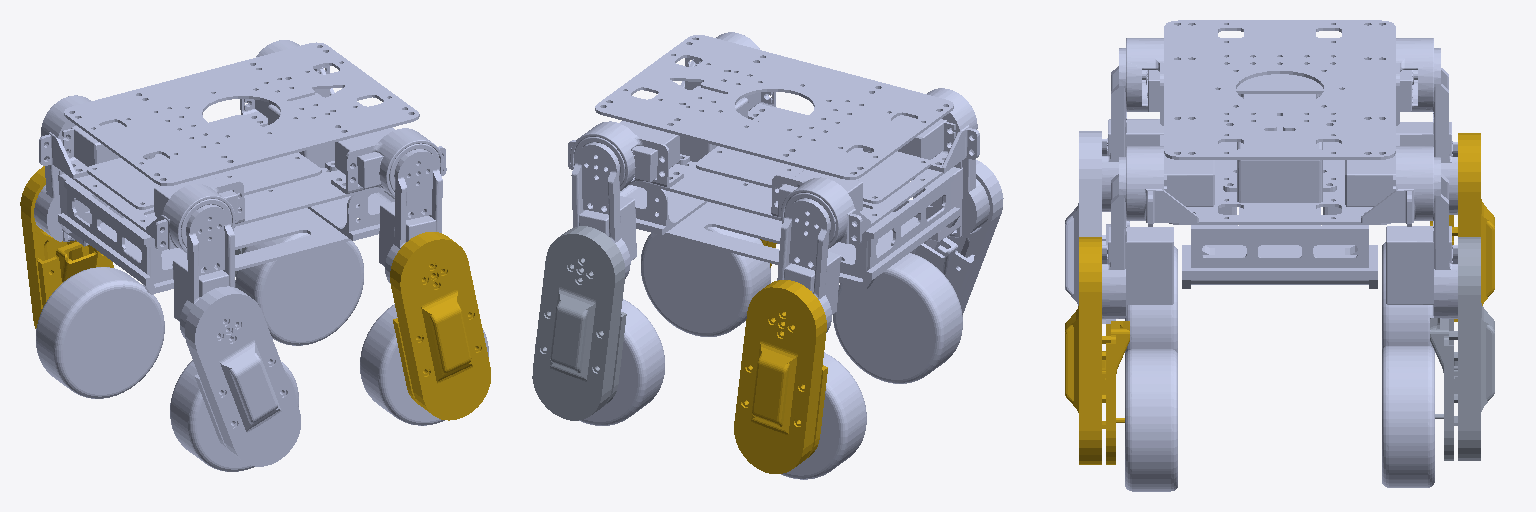
URDF robot description (qwe.SLDASM):
<?xml version="1.0" encoding="utf-8"?>
<!-- This URDF was automatically created by SolidWorks to URDF Exporter! Originally created by Stephen Brawner (brawner@gmail.com) 
     Commit Version: 1.6.0-4-g7f85cfe  Build Version: 1.6.7995.38578
     For more information, please see http://wiki.ros.org/sw_urdf_exporter -->
<robot
  name="qwe.SLDASM">
  <link
    name="base_link">
    <inertial>
      <origin
        xyz="0.00555840377495149 -2.19858108875884E-05 -0.0338534350070039"
        rpy="0 0 0" />
      <mass
        value="0.419586541227121" />
      <inertia
        ixx="0.000312095321114988"
        ixy="2.50695119161725E-08"
        ixz="-6.90599475069062E-06"
        iyy="0.000387742385307298"
        iyz="4.11379473740516E-08"
        izz="0.000639007842405834" />
    </inertial>
    <visual>
      <origin
        xyz="0 0 0"
        rpy="0 0 0" />
      <geometry>
        <mesh
          filename="package://qwe.SLDASM/meshes/base_link.STL" />
      </geometry>
      <material
        name="">
        <color
          rgba="0.792156862745098 0.819607843137255 0.933333333333333 1" />
      </material>
    </visual>
    <collision>
      <origin
        xyz="0 0 0"
        rpy="0 0 0" />
      <geometry>
        <mesh
          filename="package://qwe.SLDASM/meshes/base_link.STL" />
      </geometry>
    </collision>
  </link>
  <link
    name="big_qian_zuo">
    <inertial>
      <origin
        xyz="0.00598678395976224 1.98653760603157E-06 -0.0461649985361685"
        rpy="0 0 0" />
      <mass
        value="0.0494865350740823" />
      <inertia
        ixx="2.43542348789758E-05"
        ixy="7.75557557316936E-10"
        ixz="-2.53299401409177E-06"
        iyy="2.49490121099917E-05"
        iyz="3.23687605066671E-09"
        izz="8.45453181596326E-06" />
    </inertial>
    <visual>
      <origin
        xyz="0 0 0"
        rpy="0 0 0" />
      <geometry>
        <mesh
          filename="package://qwe.SLDASM/meshes/big_qian_zuo.STL" />
      </geometry>
      <material
        name="">
        <color
          rgba="0.792156862745098 0.819607843137255 0.933333333333333 1" />
      </material>
    </visual>
    <collision>
      <origin
        xyz="0 0 0"
        rpy="0 0 0" />
      <geometry>
        <mesh
          filename="package://qwe.SLDASM/meshes/big_qian_zuo.STL" />
      </geometry>
    </collision>
  </link>
  <joint
    name="big_qian_zuo_joint"
    type="revolute">
    <origin
      xyz="0.0762094291442094 0.0903 -0.0234011305178569"
      rpy="-0.0308855290297457 -0.00706008448016331 -1.57057820480458" />
    <parent
      link="base_link" />
    <child
      link="big_qian_zuo" />
    <axis
      xyz="0.999999932595868 -0.000367162441960122 0" />
    <limit
      lower="-3"
      upper="3"
      effort="1"
      velocity="1" />
  </joint>
  <link
    name="small_qian_zuo">
    <inertial>
      <origin
        xyz="0.00767726535709001 2.66992835226687E-06 -0.0417242038743062"
        rpy="0 0 0" />
      <mass
        value="0.0485888194618554" />
      <inertia
        ixx="5.53620086864661E-05"
        ixy="-1.0875528646771E-12"
        ixz="-9.32800169431362E-07"
        iyy="4.64562167462947E-05"
        iyz="-3.6740556524865E-12"
        izz="1.03749534177239E-05" />
    </inertial>
    <visual>
      <origin
        xyz="0 0 0"
        rpy="0 0 0" />
      <geometry>
        <mesh
          filename="package://qwe.SLDASM/meshes/small_qian_zuo.STL" />
      </geometry>
      <material
        name="">
        <color
          rgba="0.666666666666667 0.698039215686274 0.768627450980392 1" />
      </material>
    </visual>
    <collision>
      <origin
        xyz="0 0 0"
        rpy="0 0 0" />
      <geometry>
        <mesh
          filename="package://qwe.SLDASM/meshes/small_qian_zuo.STL" />
      </geometry>
    </collision>
  </link>
  <joint
    name="small_qian_zuo_joint"
    type="revolute">
    <origin
      xyz="-0.0232348253078274 0 -0.0614783303018983"
      rpy="0.150944016190387 0.00706345307050266 0" />
    <parent
      link="big_qian_zuo" />
    <child
      link="small_qian_zuo" />
    <axis
      xyz="1 0 0" />
    <limit
      lower="-3"
      upper="3"
      effort="1"
      velocity="1" />
  </joint>
  <link
    name="last_qian_zuo">
    <inertial>
      <origin
        xyz="-0.0149999999999998 -5.82867087928207E-16 1.38777878078145E-16"
        rpy="0 0 0" />
      <mass
        value="0.149109068746913" />
      <inertia
        ixx="0.000118053785956217"
        ixy="1.22252890212675E-18"
        ixz="-9.42524443498174E-19"
        iyy="7.00002951751582E-05"
        iyz="5.05043394797974E-21"
        izz="7.00002951751582E-05" />
    </inertial>
    <visual>
      <origin
        xyz="0 0 0"
        rpy="0 0 0" />
      <geometry>
        <mesh
          filename="package://qwe.SLDASM/meshes/last_qian_zuo.STL" />
      </geometry>
      <material
        name="">
        <color
          rgba="0.792156862745098 0.819607843137255 0.933333333333333 1" />
      </material>
    </visual>
    <collision>
      <origin
        xyz="0 0 0"
        rpy="0 0 0" />
      <geometry>
        <mesh
          filename="package://qwe.SLDASM/meshes/last_qian_zuo.STL" />
      </geometry>
    </collision>
  </link>
  <joint
    name="last_qian_zuo_last"
    type="continuous">
    <origin
      xyz="0.0559999999999992 0 -0.0800000000000008"
      rpy="1.42873540434818 0 0" />
    <parent
      link="small_qian_zuo" />
    <child
      link="last_qian_zuo" />
    <axis
      xyz="-1 0 0" />
    <limit
      lower="-3"
      upper="3"
      effort="1"
      velocity="1" />
  </joint>
  <link
    name="big_qian_you">
    <inertial>
      <origin
        xyz="-0.00631271616099918 -1.9860585745296E-06 -0.0461215595607491"
        rpy="0 0 0" />
      <mass
        value="0.0494865356273923" />
      <inertia
        ixx="2.43892239576833E-05"
        ixy="7.52722720596035E-10"
        ixz="2.42043823170891E-06"
        iyy="2.49490122157885E-05"
        iyz="-3.24150248933336E-09"
        izz="8.41954297295392E-06" />
    </inertial>
    <visual>
      <origin
        xyz="0 0 0"
        rpy="0 0 0" />
      <geometry>
        <mesh
          filename="package://qwe.SLDASM/meshes/big_qian_you.STL" />
      </geometry>
      <material
        name="">
        <color
          rgba="0.792156862745098 0.819607843137255 0.933333333333333 1" />
      </material>
    </visual>
    <collision>
      <origin
        xyz="0 0 0"
        rpy="0 0 0" />
      <geometry>
        <mesh
          filename="package://qwe.SLDASM/meshes/big_qian_you.STL" />
      </geometry>
    </collision>
  </link>
  <joint
    name="big_qian_you_joint"
    type="revolute">
    <origin
      xyz="0.0762094291442093 -0.0902999999999995 -0.023401130517856"
      rpy="-0.0225559175818486 0 -1.57079632679133" />
    <parent
      link="base_link" />
    <child
      link="big_qian_you" />
    <axis
      xyz="-1 0 0" />
    <limit
      lower="-3"
      upper="3"
      effort="1"
      velocity="1" />
  </joint>
  <link
    name="small_qian_you">
    <inertial>
      <origin
        xyz="-0.00767726462148824 -2.65533010727903E-06 -0.0417238698915572"
        rpy="0 0 0" />
      <mass
        value="0.0485888184351272" />
      <inertia
        ixx="5.53620073110566E-05"
        ixy="-1.11009066465463E-12"
        ixz="9.32799740938875E-07"
        iyy="4.6456215295849E-05"
        iyz="2.31993670034056E-12"
        izz="1.0374953348037E-05" />
    </inertial>
    <visual>
      <origin
        xyz="0 0 0"
        rpy="0 0 0" />
      <geometry>
        <mesh
          filename="package://qwe.SLDASM/meshes/small_qian_you.STL" />
      </geometry>
      <material
        name="">
        <color
          rgba="0.831372549019608 0.670588235294118 0.129411764705882 1" />
      </material>
    </visual>
    <collision>
      <origin
        xyz="0 0 0"
        rpy="0 0 0" />
      <geometry>
        <mesh
          filename="package://qwe.SLDASM/meshes/small_qian_you.STL" />
      </geometry>
    </collision>
  </link>
  <joint
    name="small_qian_you_joint"
    type="revolute">
    <origin
      xyz="0.0227999999999998 0 -0.0616409133919568"
      rpy="0.227738111732279 0 0" />
    <parent
      link="big_qian_you" />
    <child
      link="small_qian_you" />
    <axis
      xyz="-1 0 0" />
    <limit
      lower="-3"
      upper="3"
      effort="1"
      velocity="1" />
  </joint>
  <link
    name="last_qian_you">
    <inertial>
      <origin
        xyz="-0.015 -2.22044604925031E-16 4.30211422042248E-16"
        rpy="0 0 0" />
      <mass
        value="0.149109068746913" />
      <inertia
        ixx="0.000118053785956217"
        ixy="7.49965213635504E-19"
        ixz="-1.36735576476358E-18"
        iyy="7.00002951751581E-05"
        iyz="3.81164826262279E-21"
        izz="7.00002951751581E-05" />
    </inertial>
    <visual>
      <origin
        xyz="0 0 0"
        rpy="0 0 0" />
      <geometry>
        <mesh
          filename="package://qwe.SLDASM/meshes/last_qian_you.STL" />
      </geometry>
      <material
        name="">
        <color
          rgba="0.792156862745098 0.819607843137255 0.933333333333333 1" />
      </material>
    </visual>
    <collision>
      <origin
        xyz="0 0 0"
        rpy="0 0 0" />
      <geometry>
        <mesh
          filename="package://qwe.SLDASM/meshes/last_qian_you.STL" />
      </geometry>
    </collision>
  </link>
  <joint
    name="last_qian_you_joint"
    type="continuous">
    <origin
      xyz="-0.0559999999999992 0 -0.0800000000000008"
      rpy="1.79798018624836 0 3.14159265358977" />
    <parent
      link="small_qian_you" />
    <child
      link="last_qian_you" />
    <axis
      xyz="-1 0 0" />
    <limit
      lower="-3"
      upper="3"
      effort="1"
      velocity="1" />
  </joint>
  <link
    name="big_hou_you">
    <inertial>
      <origin
        xyz="-0.00631271631098991 -1.98797039906162E-06 -0.0461215608870768"
        rpy="0 0 0" />
      <mass
        value="0.0494865335752321" />
      <inertia
        ixx="2.43892234060449E-05"
        ixy="7.52531112419532E-10"
        ixz="2.42043806203214E-06"
        iyy="2.49490119102213E-05"
        iyz="-3.24455682280894E-09"
        izz="8.41954265338489E-06" />
    </inertial>
    <visual>
      <origin
        xyz="0 0 0"
        rpy="0 0 0" />
      <geometry>
        <mesh
          filename="package://qwe.SLDASM/meshes/big_hou_you.STL" />
      </geometry>
      <material
        name="">
        <color
          rgba="0.792156862745098 0.819607843137255 0.933333333333333 1" />
      </material>
    </visual>
    <collision>
      <origin
        xyz="0 0 0"
        rpy="0 0 0" />
      <geometry>
        <mesh
          filename="package://qwe.SLDASM/meshes/big_hou_you.STL" />
      </geometry>
    </collision>
  </link>
  <joint
    name="big_hou_you_joint"
    type="revolute">
    <origin
      xyz="-0.0751582217541418 -0.0902999999999995 -0.0265312205103236"
      rpy="0.0149893111120794 0 -1.5707963267949" />
    <parent
      link="base_link" />
    <child
      link="big_hou_you" />
    <axis
      xyz="-1 0 0" />
    <limit
      lower="-3"
      upper="3"
      effort="1"
      velocity="1" />
  </joint>
  <link
    name="small_hou_you">
    <inertial>
      <origin
        xyz="-0.00759256988193033 1.61676053815618E-06 -0.0413971078381016"
        rpy="0 0 0" />
      <mass
        value="0.0477234162237091" />
      <inertia
        ixx="5.53092111248223E-05"
        ixy="-1.08678276568245E-12"
        ixz="9.32925992360023E-07"
        iyy="4.64320842914699E-05"
        iyz="2.01516401601926E-12"
        izz="1.0317434425566E-05" />
    </inertial>
    <visual>
      <origin
        xyz="0 0 0"
        rpy="0 0 0" />
      <geometry>
        <mesh
          filename="package://qwe.SLDASM/meshes/small_hou_you.STL" />
      </geometry>
      <material
        name="">
        <color
          rgba="0.792156862745098 0.819607843137255 0.933333333333333 1" />
      </material>
    </visual>
    <collision>
      <origin
        xyz="0 0 0"
        rpy="0 0 0" />
      <geometry>
        <mesh
          filename="package://qwe.SLDASM/meshes/small_hou_you.STL" />
      </geometry>
    </collision>
  </link>
  <joint
    name="small_hou_you_joint"
    type="continuous">
    <origin
      xyz="0.0227999999999996 -5.65848566776578E-05 -0.061640913391956"
      rpy="0.335987949934926 0 0" />
    <parent
      link="big_hou_you" />
    <child
      link="small_hou_you" />
    <axis
      xyz="1 0 0" />
    <limit
      lower="-3"
      upper="3"
      effort="1"
      velocity="1" />
  </joint>
  <link
    name="last_hou_you">
    <inertial>
      <origin
        xyz="-0.015 -1.66533453693773E-16 4.30211422042248E-16"
        rpy="0 0 0" />
      <mass
        value="0.149109068746913" />
      <inertia
        ixx="0.000118053785956217"
        ixy="5.57648275291524E-19"
        ixz="-1.39308216264826E-18"
        iyy="7.00002951751582E-05"
        iyz="1.66441974135308E-20"
        izz="7.00002951751582E-05" />
    </inertial>
    <visual>
      <origin
        xyz="0 0 0"
        rpy="0 0 0" />
      <geometry>
        <mesh
          filename="package://qwe.SLDASM/meshes/last_hou_you.STL" />
      </geometry>
      <material
        name="">
        <color
          rgba="0.792156862745098 0.819607843137255 0.933333333333333 1" />
      </material>
    </visual>
    <collision>
      <origin
        xyz="0 0 0"
        rpy="0 0 0" />
      <geometry>
        <mesh
          filename="package://qwe.SLDASM/meshes/last_hou_you.STL" />
      </geometry>
    </collision>
  </link>
  <joint
    name="last_hou_you_joint"
    type="continuous">
    <origin
      xyz="-0.0559999999999994 0 -0.0800000000000007"
      rpy="1.94377525314493 0 3.14159265358977" />
    <parent
      link="small_hou_you" />
    <child
      link="last_hou_you" />
    <axis
      xyz="-1 0 0" />
    <limit
      lower="-3"
      upper="3"
      effort="1"
      velocity="1" />
  </joint>
  <link
    name="big_hou_zuo">
    <inertial>
      <origin
        xyz="0.00631271561445132 1.98128177643364E-06 -0.0461215566734371"
        rpy="0 0 0" />
      <mass
        value="0.0494865426873977" />
      <inertia
        ixx="2.43892264532237E-05"
        ixy="7.53191921504714E-10"
        ixz="-2.42043846524896E-06"
        iyy="2.49490143980449E-05"
        iyz="3.23355865159583E-09"
        izz="8.41954352575737E-06" />
    </inertial>
    <visual>
      <origin
        xyz="0 0 0"
        rpy="0 0 0" />
      <geometry>
        <mesh
          filename="package://qwe.SLDASM/meshes/big_hou_zuo.STL" />
      </geometry>
      <material
        name="">
        <color
          rgba="0.792156862745098 0.819607843137255 0.933333333333333 1" />
      </material>
    </visual>
    <collision>
      <origin
        xyz="0 0 0"
        rpy="0 0 0" />
      <geometry>
        <mesh
          filename="package://qwe.SLDASM/meshes/big_hou_zuo.STL" />
      </geometry>
    </collision>
  </link>
  <joint
    name="big_hou_zuo_joint"
    type="revolute">
    <origin
      xyz="-0.0751570307579049 0.0903 -0.0265877928315861"
      rpy="0.0764813194979033 0 -1.57079632679489" />
    <parent
      link="base_link" />
    <child
      link="big_hou_zuo" />
    <axis
      xyz="1 0 0" />
    <limit
      lower="-3"
      upper="3"
      effort="1"
      velocity="1" />
  </joint>
  <link
    name="small_hou_zuo">
    <inertial>
      <origin
        xyz="0.00767726538820115 2.67927427767545E-06 -0.0417241072124587"
        rpy="0 0 0" />
      <mass
        value="0.0485888195107094" />
      <inertia
        ixx="5.53620087490208E-05"
        ixy="-1.0930280542396E-12"
        ixz="-9.32800189449413E-07"
        iyy="4.64562168018682E-05"
        iyz="-3.68190150764586E-12"
        izz="1.03749534322517E-05" />
    </inertial>
    <visual>
      <origin
        xyz="0 0 0"
        rpy="0 0 0" />
      <geometry>
        <mesh
          filename="package://qwe.SLDASM/meshes/small_hou_zuo.STL" />
      </geometry>
      <material
        name="">
        <color
          rgba="0.831372549019608 0.670588235294118 0.129411764705882 1" />
      </material>
    </visual>
    <collision>
      <origin
        xyz="0 0 0"
        rpy="0 0 0" />
      <geometry>
        <mesh
          filename="package://qwe.SLDASM/meshes/small_hou_zuo.STL" />
      </geometry>
    </collision>
  </link>
  <joint
    name="small_hou_zuo_joint"
    type="revolute">
    <origin
      xyz="-0.0228 0 -0.0616409133919558"
      rpy="0.041766101362966 0 0" />
    <parent
      link="big_hou_zuo" />
    <child
      link="small_hou_zuo" />
    <axis
      xyz="1 0 0" />
    <limit
      lower="-3"
      upper="3"
      effort="1"
      velocity="1" />
  </joint>
  <link
    name="last_hou_zuo">
    <inertial>
      <origin
        xyz="-0.015 -3.60822483003176E-16 3.05311331771918E-16"
        rpy="0 0 0" />
      <mass
        value="0.149109068746913" />
      <inertia
        ixx="0.000118053785956217"
        ixy="1.1899381830226E-18"
        ixz="-9.38985349306239E-19"
        iyy="7.00002951751582E-05"
        iyz="1.79994501289336E-21"
        izz="7.00002951751582E-05" />
    </inertial>
    <visual>
      <origin
        xyz="0 0 0"
        rpy="0 0 0" />
      <geometry>
        <mesh
          filename="package://qwe.SLDASM/meshes/last_hou_zuo.STL" />
      </geometry>
      <material
        name="">
        <color
          rgba="0.792156862745098 0.819607843137255 0.933333333333333 1" />
      </material>
    </visual>
    <collision>
      <origin
        xyz="0 0 0"
        rpy="0 0 0" />
      <geometry>
        <mesh
          filename="package://qwe.SLDASM/meshes/last_hou_zuo.STL" />
      </geometry>
    </collision>
  </link>
  <joint
    name="last_hou_zuo_joint"
    type="continuous">
    <origin
      xyz="0.0559999999999993 0 -0.0800000000000008"
      rpy="1.430547240631 0 0" />
    <parent
      link="small_hou_zuo" />
    <child
      link="last_hou_zuo" />
    <axis
      xyz="-1 0 0" />
    <limit
      effort="1"
      velocity="1" />
  </joint>
</robot>

--- Render facts (derived) ---
Views: 3 orthographic renders of the robot side by side, from view 1: azimuth 30°, elevation 25°; view 2: azimuth 150°, elevation 25°; view 3: azimuth 270°, elevation 25°.
Model qwe.SLDASM with 13 links and 12 joints (7 revolute, 5 continuous), rooted at base_link, posed every joint at zero.
Visible links, largest first — view 1: base_link, small_qian_you, small_hou_you, last_hou_zuo, last_qian_zuo, big_qian_you, big_hou_you, small_hou_zuo, last_qian_you, last_hou_you, big_hou_zuo; view 2: base_link, small_hou_zuo, small_qian_zuo, last_hou_you, last_qian_you, big_qian_zuo, big_hou_zuo, last_hou_zuo, last_qian_zuo, small_hou_you, big_hou_you; view 3: base_link, small_qian_you, small_qian_zuo, last_qian_you, last_qian_zuo, big_qian_zuo, big_qian_you, small_hou_you, small_hou_zuo, big_hou_you, big_hou_zuo, last_hou_you (+1 smaller).
Boxes of the visible links, x1=… form: base_link: x1=39, y1=40, x2=446, y2=294; small_qian_you: x1=390, y1=232, x2=490, y2=420; small_hou_you: x1=185, y1=286, x2=300, y2=466; last_hou_zuo: x1=36, y1=267, x2=164, y2=398; last_qian_zuo: x1=235, y1=233, x2=363, y2=345; big_qian_you: x1=379, y1=149, x2=442, y2=283; big_hou_you: x1=173, y1=204, x2=234, y2=337; small_hou_zuo: x1=20, y1=166, x2=113, y2=328; last_qian_you: x1=360, y1=304, x2=488, y2=425; last_hou_you: x1=170, y1=360, x2=298, y2=471; big_hou_zuo: x1=34, y1=136, x2=108, y2=246; base_link: x1=568, y1=32, x2=979, y2=289; small_hou_zuo: x1=734, y1=280, x2=827, y2=473; small_qian_zuo: x1=532, y1=226, x2=626, y2=420; last_hou_you: x1=833, y1=253, x2=962, y2=383; last_qian_you: x1=641, y1=227, x2=770, y2=336; big_qian_zuo: x1=571, y1=142, x2=636, y2=278; big_hou_zuo: x1=777, y1=198, x2=840, y2=332; last_hou_zuo: x1=781, y1=352, x2=866, y2=479; last_qian_zuo: x1=535, y1=299, x2=664, y2=425; small_hou_you: x1=910, y1=160, x2=1003, y2=314; big_hou_you: x1=913, y1=129, x2=989, y2=241; base_link: x1=1126, y1=20, x2=1433, y2=288; small_qian_you: x1=1065, y1=237, x2=1129, y2=464; small_qian_zuo: x1=1430, y1=237, x2=1494, y2=460; last_qian_you: x1=1125, y1=349, x2=1177, y2=491; last_qian_zuo: x1=1382, y1=346, x2=1434, y2=487; big_qian_zuo: x1=1386, y1=157, x2=1457, y2=318; big_qian_you: x1=1102, y1=157, x2=1173, y2=318; small_hou_you: x1=1065, y1=131, x2=1129, y2=323; small_hou_zuo: x1=1430, y1=133, x2=1494, y2=321; big_hou_you: x1=1102, y1=48, x2=1163, y2=211; big_hou_zuo: x1=1396, y1=48, x2=1457, y2=214; last_hou_you: x1=1125, y1=246, x2=1177, y2=353.
Bounding box of the posed robot: 0.2356 × 0.2422 × 0.2095 m (x, y, z).
13 mesh visuals loaded from 13 distinct referenced files (13 binary STL).
